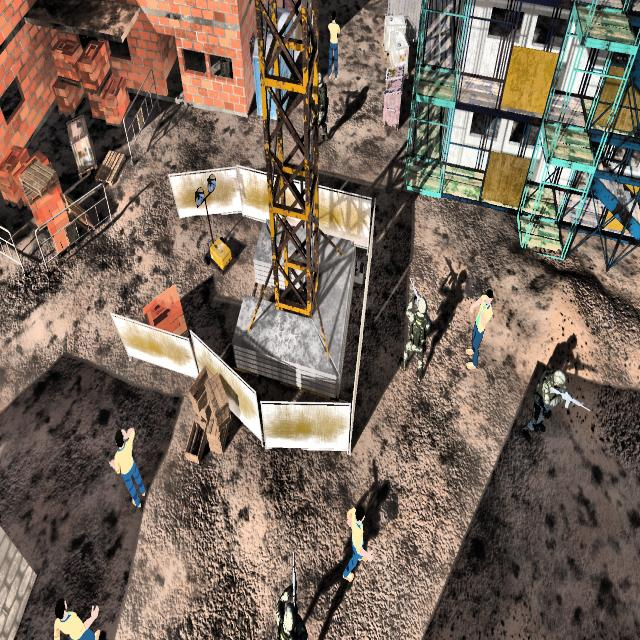bad: (520, 354, 584, 457), (395, 270, 436, 390), (262, 556, 315, 640), (313, 65, 332, 142)
good: (100, 417, 150, 519), (332, 487, 378, 591), (461, 278, 497, 388), (46, 586, 107, 640), (325, 5, 344, 81)
